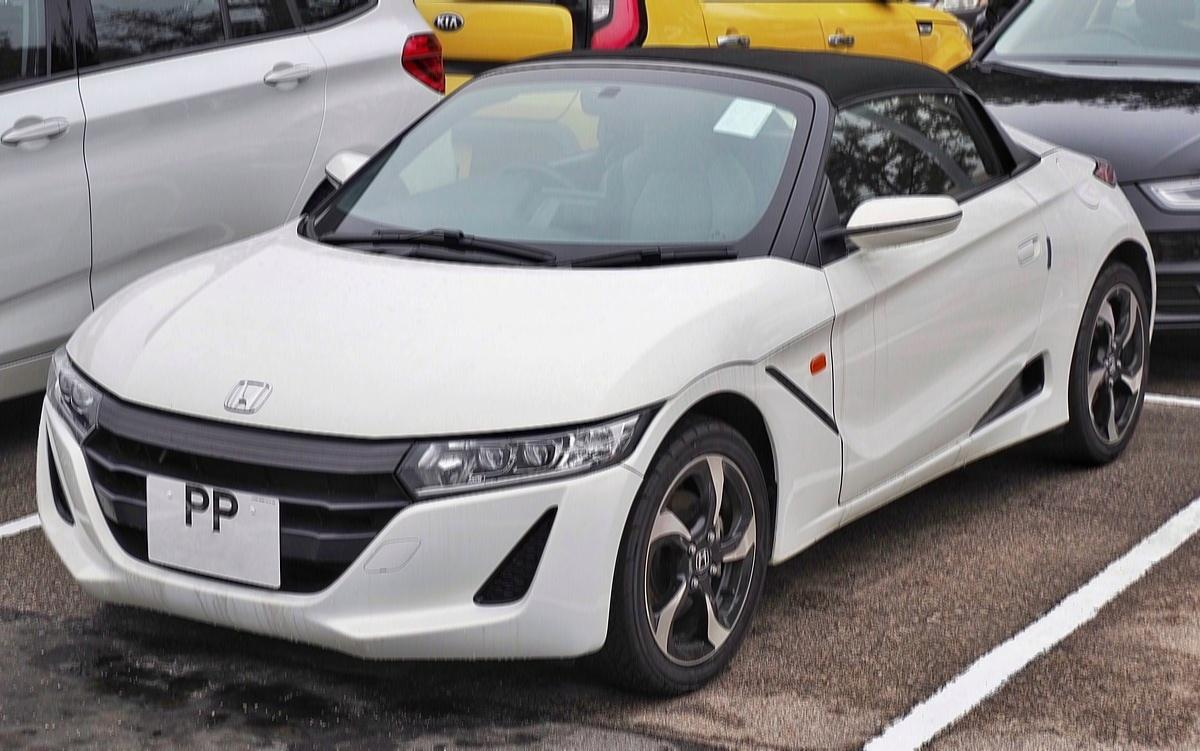Car hood: (62, 208, 828, 451)
Fender - -F-L-: (614, 247, 844, 539)
Fender - -R-L-: (1052, 182, 1137, 422)
Front bumper: (22, 436, 648, 673)
Headlight - -L-: (386, 390, 666, 513)
Headlight - -R-: (34, 338, 134, 449)
Passenger-s door - -F-L-: (844, 84, 1052, 494)
Rear light - -L-: (1078, 142, 1141, 204)
Side bumper - -L-: (766, 342, 1079, 571)
Side mirror - -L-: (814, 180, 963, 267)
Side mirror - -R-: (308, 138, 379, 202)
